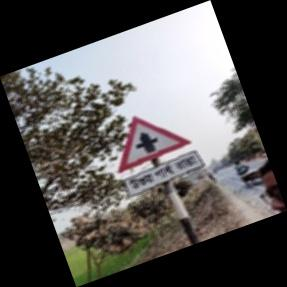Crossroad: (116, 116, 203, 244)
